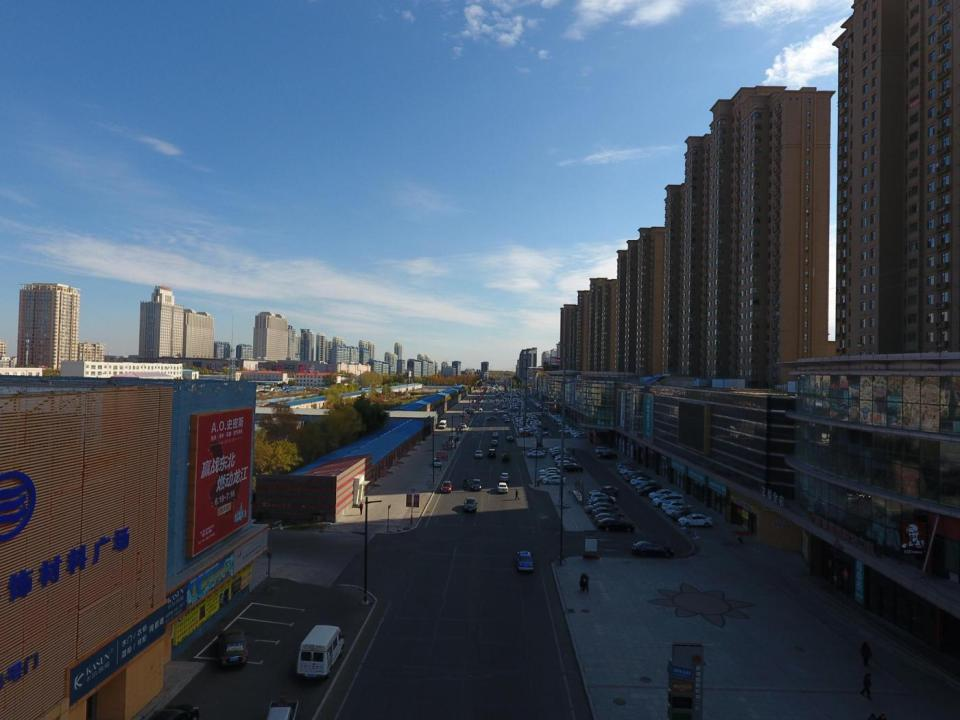bus: (298, 626, 344, 682), (439, 420, 446, 429), (494, 408, 498, 414)
car: (220, 628, 248, 668), (632, 540, 672, 558), (598, 518, 635, 531), (660, 500, 694, 513), (678, 514, 712, 527), (673, 509, 706, 522), (652, 493, 686, 505), (592, 508, 626, 520), (585, 503, 619, 515), (667, 504, 700, 516), (516, 552, 534, 573), (594, 513, 628, 524), (586, 497, 613, 509), (588, 492, 615, 504), (463, 495, 478, 516), (595, 486, 617, 497), (541, 470, 564, 480), (586, 491, 609, 501), (540, 473, 564, 482), (560, 464, 584, 473), (554, 456, 578, 465), (554, 454, 578, 463), (649, 490, 676, 498), (543, 475, 566, 484), (558, 462, 582, 470), (556, 460, 580, 468), (628, 475, 652, 483), (636, 481, 660, 489), (539, 468, 562, 476), (638, 487, 663, 494), (552, 452, 573, 460), (620, 467, 641, 475), (632, 478, 656, 485), (440, 481, 452, 494), (470, 479, 483, 491), (551, 450, 570, 458), (496, 482, 508, 494), (551, 448, 569, 456), (548, 446, 566, 454), (528, 448, 546, 456), (597, 452, 617, 459), (528, 450, 545, 458), (595, 446, 611, 454), (617, 466, 634, 472), (624, 472, 641, 478), (500, 472, 510, 481), (615, 463, 632, 468), (516, 422, 530, 428), (487, 449, 496, 458), (432, 458, 442, 466), (520, 430, 533, 436), (519, 426, 532, 432), (517, 424, 530, 430), (564, 424, 576, 430), (516, 419, 530, 424), (519, 428, 532, 433), (515, 418, 528, 423), (515, 416, 528, 421), (513, 413, 526, 418), (475, 450, 482, 459), (514, 412, 526, 417), (526, 412, 538, 417), (556, 417, 568, 422), (553, 415, 565, 420), (552, 414, 564, 419), (570, 428, 581, 433), (559, 421, 570, 426), (553, 415, 564, 420), (551, 413, 562, 418), (574, 434, 587, 438), (506, 436, 514, 442), (459, 422, 467, 428), (518, 426, 530, 430), (516, 422, 528, 426), (525, 414, 536, 418), (528, 416, 539, 420), (529, 418, 540, 422), (532, 423, 543, 427), (534, 426, 545, 430), (536, 431, 547, 435), (571, 430, 582, 434), (566, 426, 577, 430), (558, 418, 569, 422), (549, 412, 560, 416), (492, 440, 498, 447), (533, 425, 543, 429), (560, 428, 570, 432), (461, 413, 470, 417), (574, 433, 586, 436), (486, 417, 497, 420), (535, 429, 546, 432), (538, 431, 549, 434), (466, 406, 474, 410), (492, 432, 498, 437), (530, 419, 540, 422), (531, 421, 541, 424), (531, 419, 541, 422), (572, 431, 582, 434), (504, 418, 511, 422), (464, 409, 473, 412), (438, 417, 444, 421), (472, 400, 480, 403), (503, 414, 507, 418), (502, 416, 507, 419), (479, 408, 482, 412), (494, 406, 498, 409), (494, 405, 498, 408), (502, 405, 505, 408), (503, 408, 507, 410), (495, 399, 499, 401), (497, 403, 499, 406), (501, 399, 503, 402), (494, 400, 497, 402), (488, 399, 490, 402), (490, 395, 493, 397), (502, 397, 505, 399)
truck: (494, 394, 498, 398)
van: (504, 410, 508, 414)
